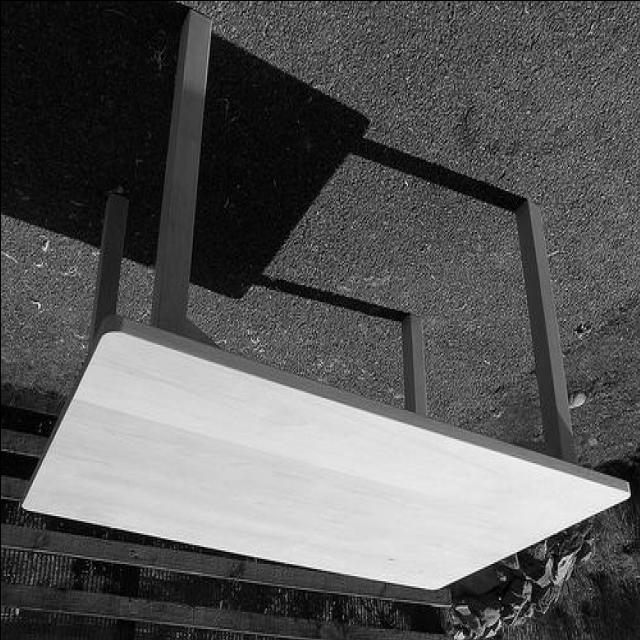table: (22, 11, 632, 594)
